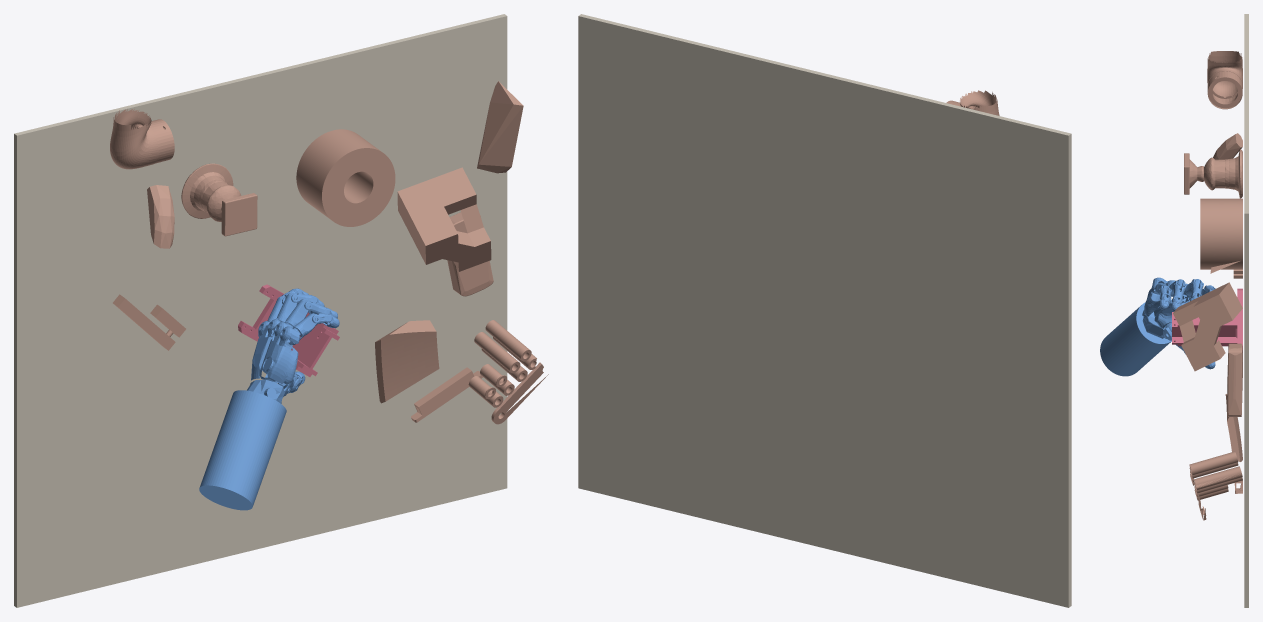
3 views of the same model, side by side, from view 1: azimuth 30°, elevation 25°; view 2: azimuth 150°, elevation 25°; view 3: azimuth 270°, elevation 25° (orthographic). The views are drawn at different scales.
Parts seen in each view (by area): view 1: environment, hand, obstacle_006, obstacle_004, obstacle_005, obstacle_003, obstacle_007, obstacle_009, obstacle_001, world, obstacle_000, obstacle_008 (+2 smaller); view 2: environment, obstacle_009; view 3: hand, obstacle_004, obstacle_006, environment, obstacle_009, obstacle_005, obstacle_007, obstacle_002, world, obstacle_003, obstacle_000.
Part boxes in pixels (box(x1,y1,x2,y2)): environment: box(14, 14, 507, 607); hand: box(199, 288, 339, 510); obstacle_006: box(296, 129, 395, 226); obstacle_004: box(397, 167, 491, 271); obstacle_005: box(468, 320, 548, 424); obstacle_003: box(375, 320, 439, 403); obstacle_007: box(181, 163, 257, 236); obstacle_009: box(110, 109, 174, 169); obstacle_001: box(477, 81, 523, 173); world: box(238, 284, 339, 376); obstacle_000: box(147, 185, 174, 248); obstacle_008: box(113, 294, 185, 350); environment: box(578, 14, 1071, 607); obstacle_009: box(946, 90, 999, 115); hand: box(1100, 277, 1215, 376); obstacle_004: box(1173, 282, 1242, 371); obstacle_006: box(1200, 198, 1242, 269); environment: box(1244, 14, 1248, 607); obstacle_009: box(1207, 51, 1242, 109); obstacle_005: box(1189, 451, 1242, 520); obstacle_007: box(1184, 149, 1242, 198); obstacle_002: box(1227, 343, 1242, 416); world: box(1172, 288, 1242, 352); obstacle_003: box(1225, 394, 1242, 461); obstacle_000: box(1213, 133, 1242, 159).
Size of the model in its own units: 0.8288 by 0.7414 by 0.2518.
